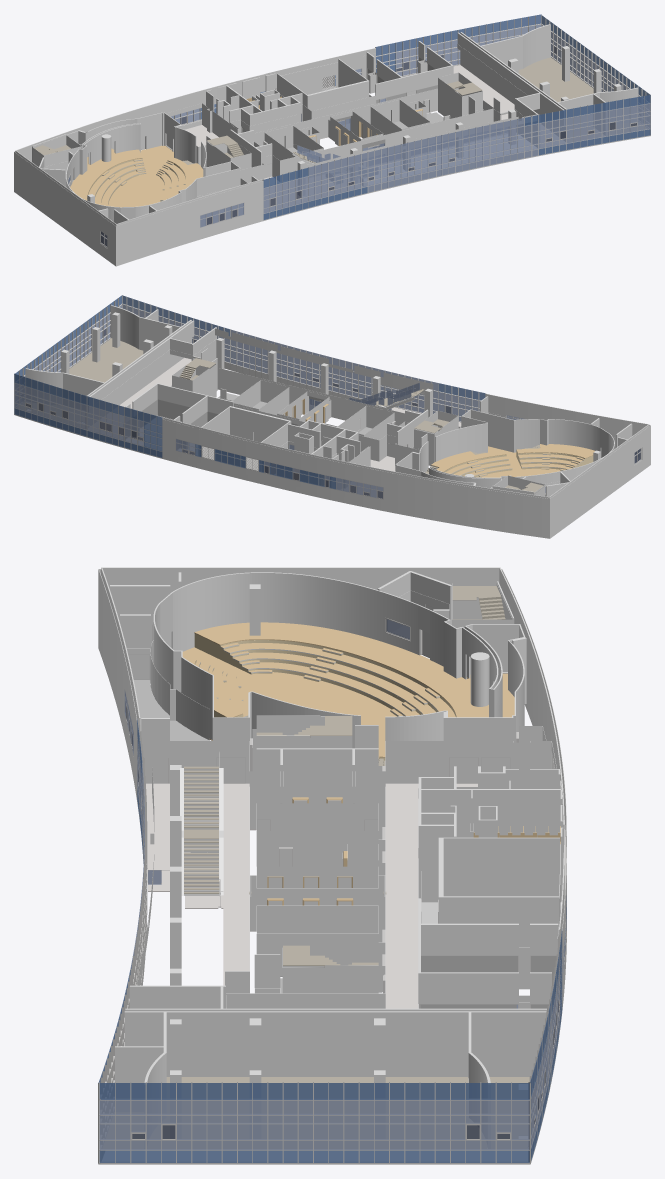
The picture shows the model from 3 angles, top to bottom: view 1: azimuth 30°, elevation 25°; view 2: azimuth 150°, elevation 25°; view 3: azimuth 270°, elevation 25°; orthographic projection. The views are drawn at different scales.
Parts seen in each view (by area): view 1: A8_3F_Wall, A8_3F_WindowGlass, A8_3F_WindowFrame, A8_3F_Stair, A8_3F_Floor, A8_3F_Pillar, A8_3F_Door, A8_3F_Elev.; view 2: A8_3F_Wall, A8_3F_WindowGlass, A8_3F_WindowFrame, A8_3F_Stair, A8_3F_Floor, A8_3F_Pillar, A8_3F_Wall2, A8_3F_InnerFence, A8_3F_Door; view 3: A8_3F_Wall, A8_3F_WindowGlass, A8_3F_Floor, A8_3F_Stair, A8_3F_WindowFrame, A8_3F_Pillar, A8_3F_Door, A8_3F_Wall2, A8_3F_Elev..
Boxes of the visible parts, left/top/right/bottom form: A8_3F_Wall: left=14, top=24, right=650, bottom=266; A8_3F_WindowGlass: left=171, top=14, right=650, bottom=227; A8_3F_WindowFrame: left=100, top=15, right=650, bottom=247; A8_3F_Stair: left=33, top=81, right=482, bottom=207; A8_3F_Floor: left=106, top=57, right=646, bottom=244; A8_3F_Pillar: left=87, top=46, right=621, bottom=203; A8_3F_Door: left=72, top=90, right=498, bottom=180; A8_3F_Elev.: left=308, top=109, right=422, bottom=146; A8_3F_Wall: left=14, top=305, right=650, bottom=538; A8_3F_WindowGlass: left=14, top=295, right=525, bottom=497; A8_3F_WindowFrame: left=14, top=295, right=641, bottom=499; A8_3F_Stair: left=179, top=358, right=594, bottom=493; A8_3F_Floor: left=17, top=338, right=638, bottom=497; A8_3F_Pillar: left=61, top=312, right=600, bottom=476; A8_3F_Wall2: left=126, top=399, right=218, bottom=448; A8_3F_InnerFence: left=349, top=381, right=422, bottom=409; A8_3F_Door: left=220, top=388, right=608, bottom=457; A8_3F_Wall: left=98, top=567, right=566, bottom=1164; A8_3F_WindowGlass: left=98, top=690, right=566, bottom=1162; A8_3F_Floor: left=103, top=626, right=529, bottom=1148; A8_3F_Stair: left=180, top=586, right=514, bottom=967; A8_3F_WindowFrame: left=98, top=689, right=566, bottom=1163; A8_3F_Pillar: left=170, top=584, right=489, bottom=1138; A8_3F_Door: left=128, top=604, right=518, bottom=993; A8_3F_Wall2: left=420, top=956, right=556, bottom=1011; A8_3F_Elev.: left=267, top=797, right=353, bottom=905.
Size of the model in its own units: 88.33 by 7.77 by 33.91.
